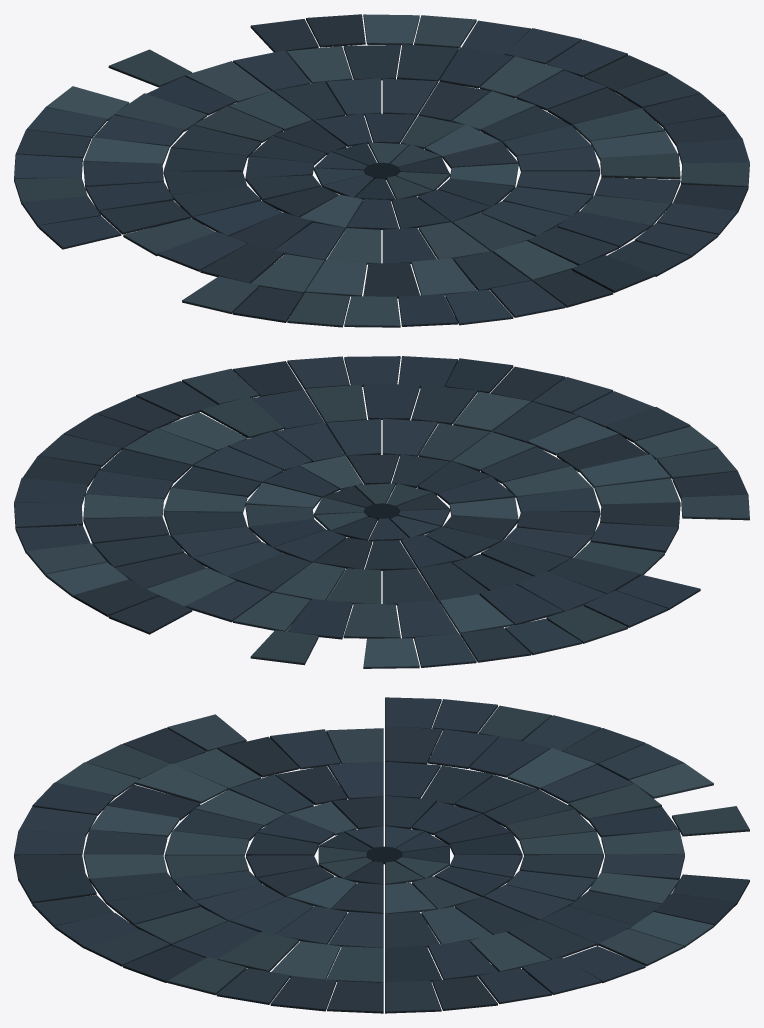
Rendered from inc_mare_piso.fbx.
3 renders of one model, top to bottom at view 1: azimuth 30°, elevation 25°; view 2: azimuth 150°, elevation 25°; view 3: azimuth 270°, elevation 25°, orthographic.
Parts seen in each view (by area): view 1: inc_mare_piso; view 2: inc_mare_piso; view 3: inc_mare_piso.
Part boxes in pixels (left/top/right/bottom): inc_mare_piso: left=14, top=14, right=749, bottom=327; inc_mare_piso: left=14, top=356, right=749, bottom=668; inc_mare_piso: left=14, top=697, right=749, bottom=1013.
Size of the model in its own units: 128 by 0.9555 by 127.
